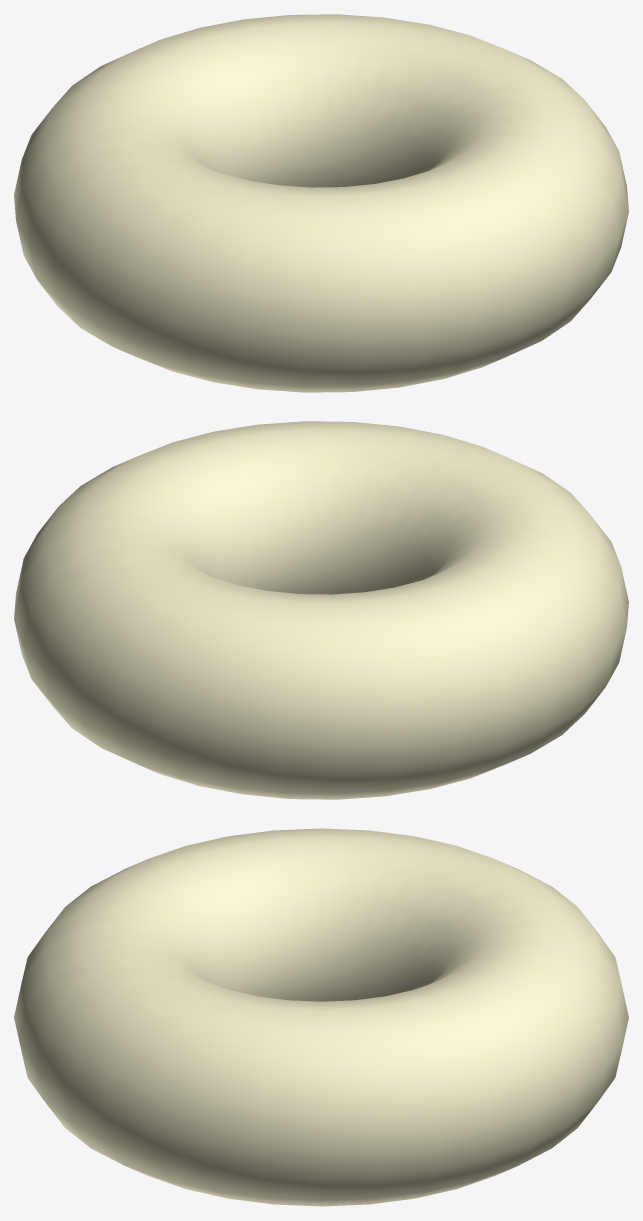
The picture shows the model from 3 angles, top to bottom: view 1: azimuth 30°, elevation 25°; view 2: azimuth 150°, elevation 25°; view 3: azimuth 270°, elevation 25°; orthographic projection.
Parts seen in each view (by area): view 1: Torus; view 2: Torus; view 3: Torus.
Part boxes in pixels (bbox=[...]): Torus: bbox=[14, 14, 628, 392]; Torus: bbox=[14, 421, 628, 799]; Torus: bbox=[14, 828, 628, 1206].
Bounding box in the file's own units: 300 × 100 × 300.
